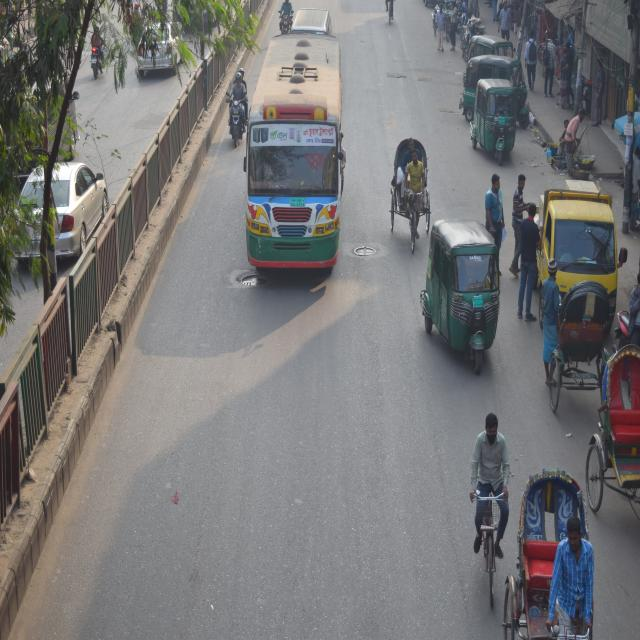bus: (241, 11, 359, 308)
motorbike: (213, 79, 250, 140)
pickup-van: (514, 162, 640, 337)
